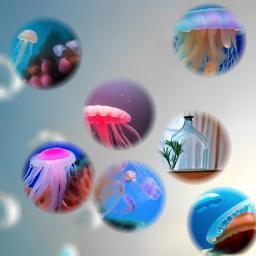not an animal: (169, 115, 215, 172)
